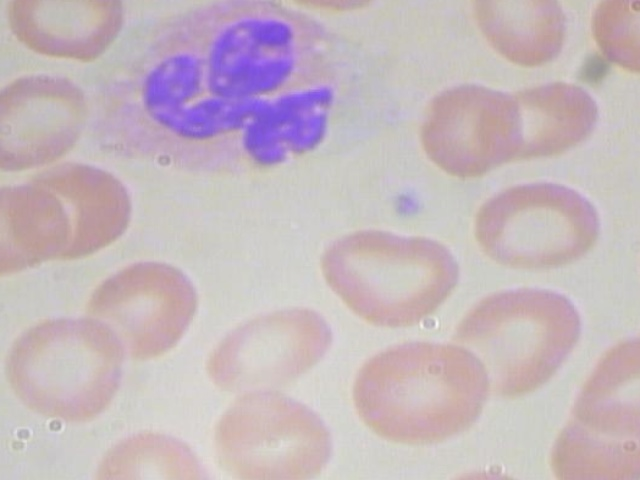RBC: (433, 281, 590, 407), (311, 213, 468, 338), (349, 336, 496, 453), (464, 168, 611, 284), (198, 291, 342, 405), (75, 251, 211, 367), (196, 379, 341, 480), (1, 313, 130, 422), (415, 83, 529, 179), (491, 74, 605, 170), (0, 68, 99, 172), (559, 322, 640, 440), (0, 0, 129, 71), (461, 0, 577, 76), (0, 172, 76, 280), (577, 0, 640, 80)
WBC: (83, 0, 399, 188)
